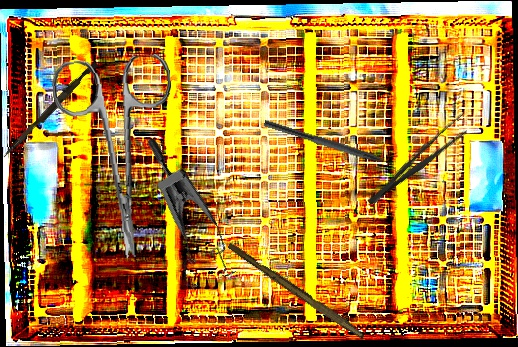Chopper: (260, 119, 404, 178)
Dressing Forceps: (362, 110, 476, 212)
Iris Scissors: (50, 53, 186, 263)
Pusher: (1, 59, 99, 162)
Scalpel Handle: (225, 241, 368, 340)
Speculum: (95, 134, 260, 304)
